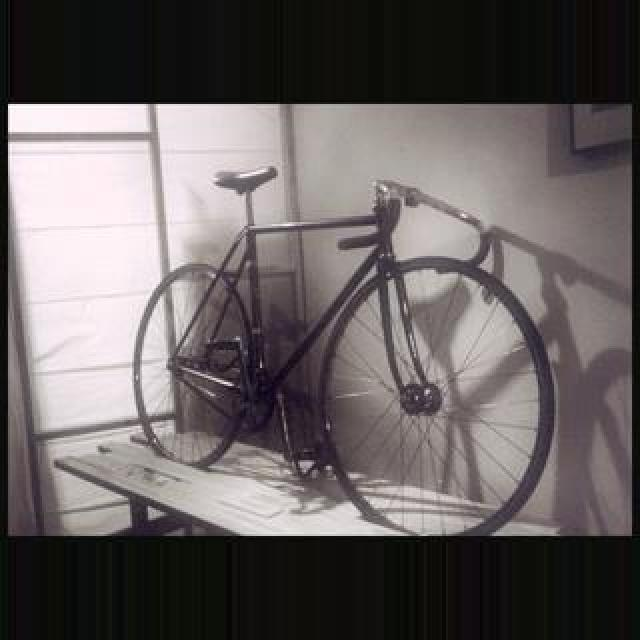Person: (132, 164, 556, 536)
